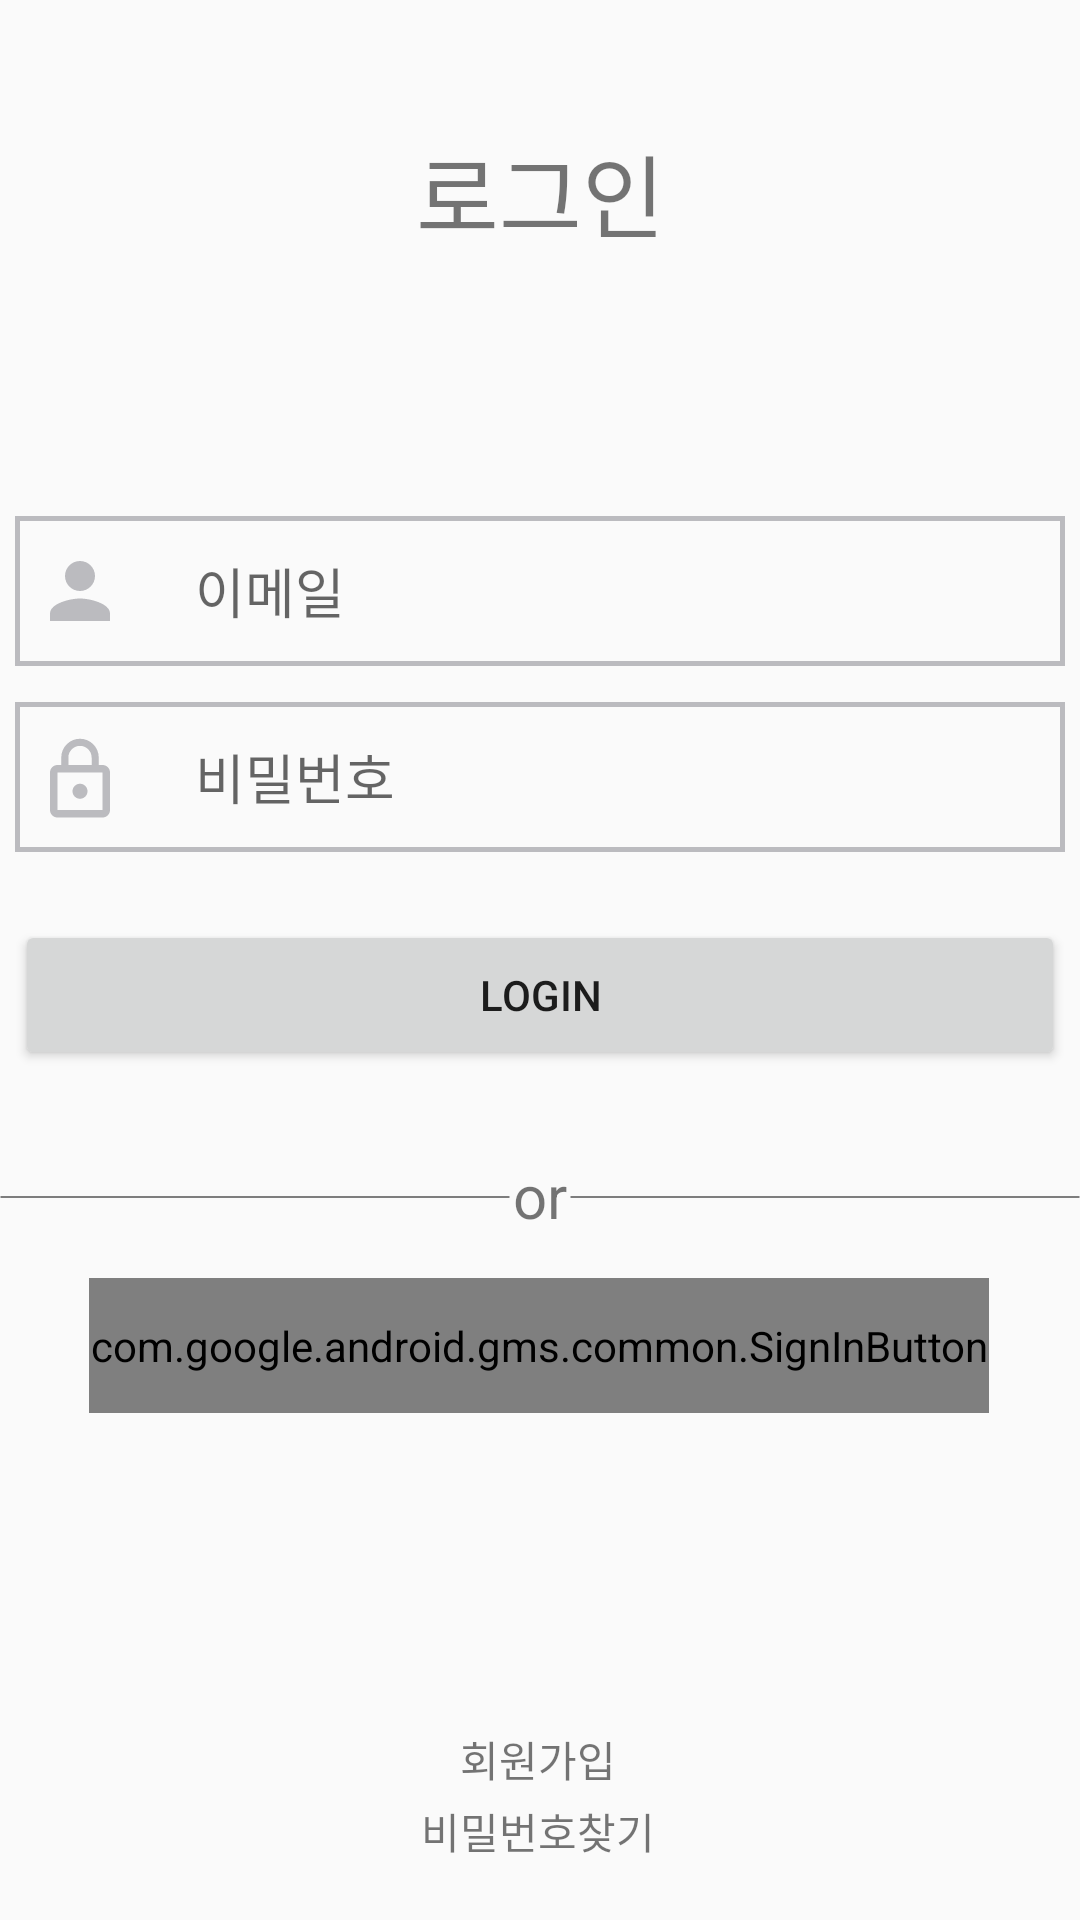

Icons on this 1080 × 1920 Android screen, each with its box as (left=x1, top=y1, right=x2, bottom=y2):
lock: (left=50, top=739, right=110, bottom=818)
person: (left=50, top=561, right=110, bottom=621)
